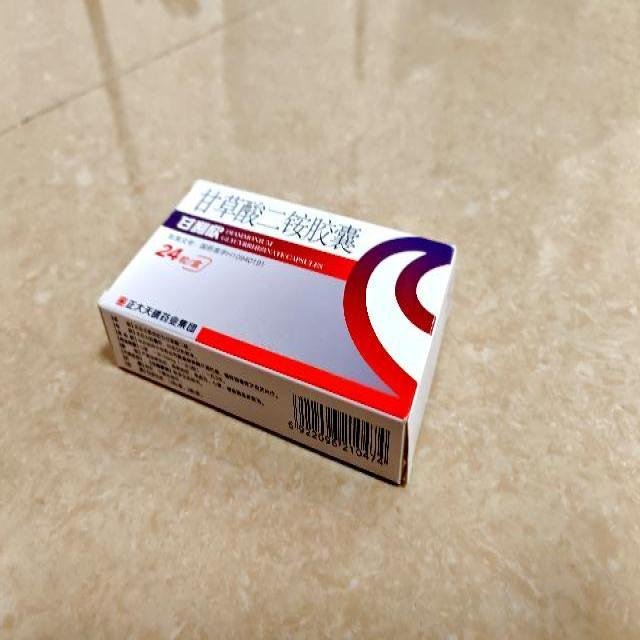box: (100, 175, 457, 486)
